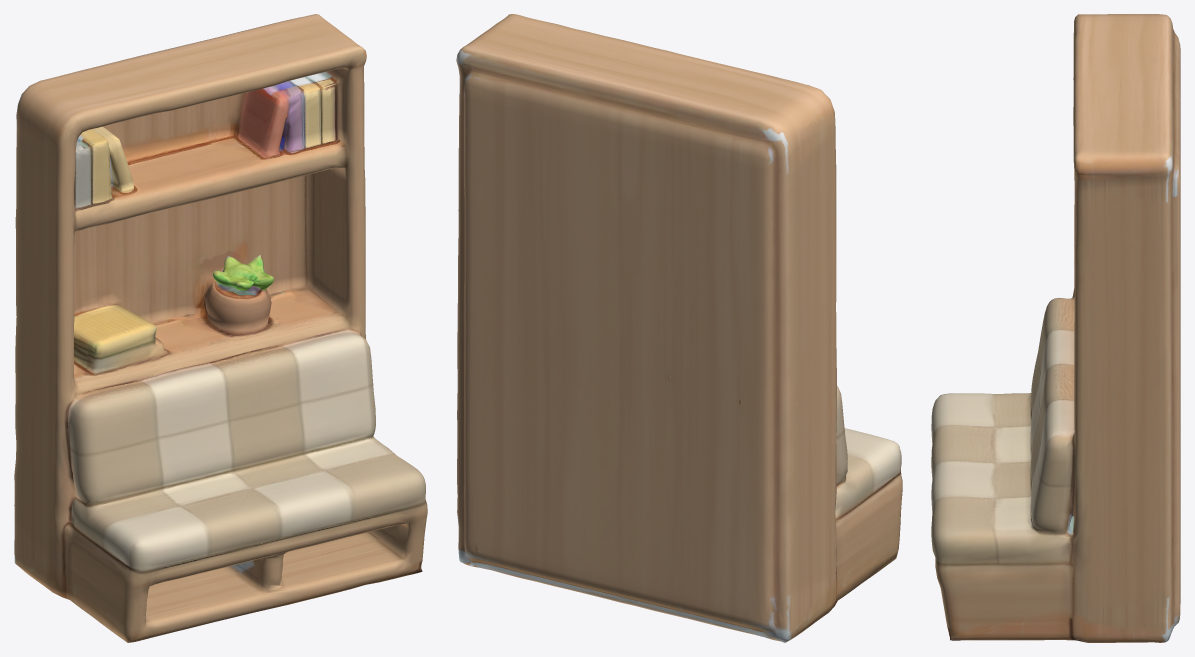
The model's file is Cozy_Reading_Nook.glb.
3 renders of one model, left to right at view 1: azimuth 30°, elevation 25°; view 2: azimuth 150°, elevation 25°; view 3: azimuth 270°, elevation 25°, orthographic. The views are drawn at different scales.
Parts seen in each view (by area): view 1: Mesh_0; view 2: Mesh_0; view 3: Mesh_0.
Boxes of the visible parts, left/top/right/bottom form: Mesh_0: left=14, top=14, right=427, bottom=642; Mesh_0: left=456, top=14, right=902, bottom=642; Mesh_0: left=931, top=14, right=1180, bottom=642.
Size of the model in its own units: 1.28 by 1.91 by 0.8832.
Materials: 1 (1 with a texture image).
